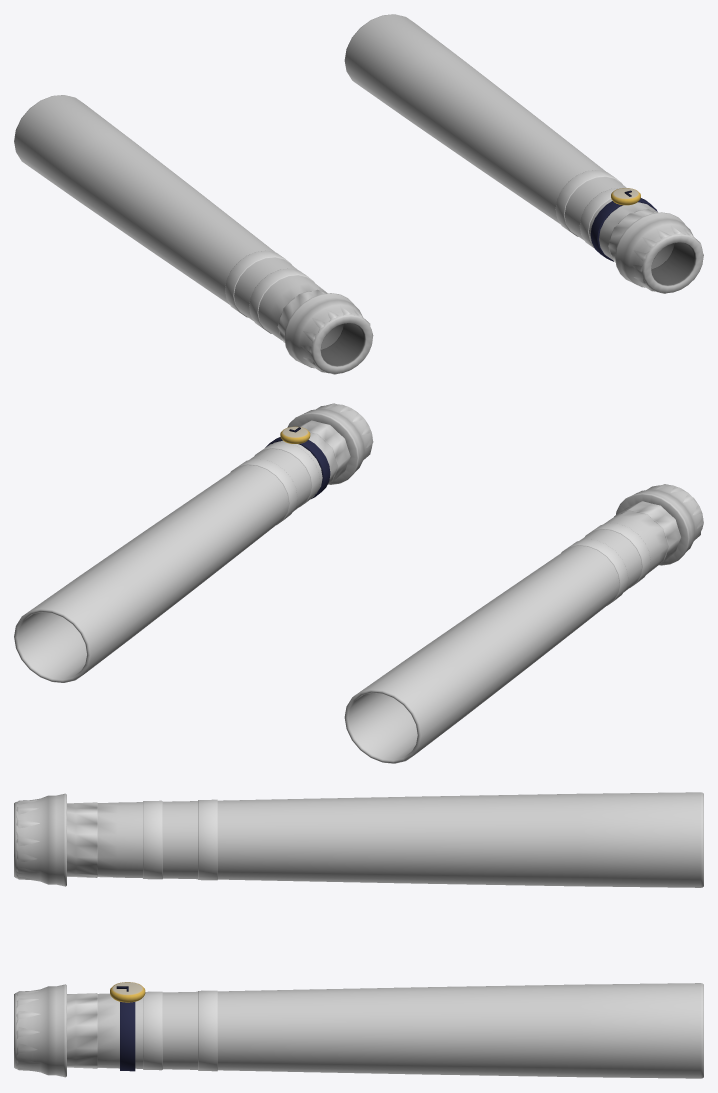
Rendered from Rookie_FPHands.fbx.
3 views of the same model, one above another, from view 1: azimuth 30°, elevation 25°; view 2: azimuth 150°, elevation 25°; view 3: azimuth 270°, elevation 25° (orthographic). The views are drawn at different scales.
Visible parts, largest first — view 1: Rookie_FPH_Right_Sleeve, Rookie_FPH_Left_Sleeve, Rookie_FPH_Right_CuffLeather, Rookie_FPH_Left_CuffLeather, Rookie_FPH_Right_Stripes, Rookie_FPH_Left_Stripes, Rookie_FPH_Left_Watch, Rookie_FPH_Left_CuffKnit, Rookie_FPH_Right_CuffKnit, Rookie_FPH_Right_Block, Rookie_FPH_Left_Block; view 2: Rookie_FPH_Right_Sleeve, Rookie_FPH_Left_Sleeve, Rookie_FPH_Right_CuffLeather, Rookie_FPH_Left_CuffLeather, Rookie_FPH_Right_Stripes, Rookie_FPH_Left_Stripes, Rookie_FPH_Right_Block, Rookie_FPH_Left_Watch, Rookie_FPH_Left_Block; view 3: Rookie_FPH_Right_Sleeve, Rookie_FPH_Left_Sleeve, Rookie_FPH_Right_CuffLeather, Rookie_FPH_Left_CuffLeather, Rookie_FPH_Right_Stripes, Rookie_FPH_Left_Stripes, Rookie_FPH_Left_Block, Rookie_FPH_Right_Block, Rookie_FPH_Left_Watch, Rookie_FPH_Right_CuffKnit, Rookie_FPH_Left_CuffKnit.
Part boxes in pixels (left/top/right/bottom): Rookie_FPH_Right_Sleeve: left=14, top=95, right=343, bottom=349; Rookie_FPH_Left_Sleeve: left=344, top=14, right=673, bottom=269; Rookie_FPH_Right_CuffLeather: left=284, top=293, right=372, bottom=373; Rookie_FPH_Left_CuffLeather: left=615, top=212, right=703, bottom=293; Rookie_FPH_Right_Stripes: left=225, top=250, right=314, bottom=333; Rookie_FPH_Left_Stripes: left=555, top=170, right=622, bottom=248; Rookie_FPH_Left_Watch: left=590, top=188, right=657, bottom=261; Rookie_FPH_Left_CuffKnit: left=631, top=225, right=703, bottom=293; Rookie_FPH_Right_CuffKnit: left=301, top=305, right=373, bottom=374; Rookie_FPH_Right_Block: left=277, top=289, right=326, bottom=342; Rookie_FPH_Left_Block: left=608, top=209, right=657, bottom=262; Rookie_FPH_Right_Sleeve: left=344, top=510, right=668, bottom=763; Rookie_FPH_Left_Sleeve: left=14, top=432, right=337, bottom=682; Rookie_FPH_Right_CuffLeather: left=616, top=485, right=703, bottom=565; Rookie_FPH_Left_CuffLeather: left=287, top=404, right=372, bottom=484; Rookie_FPH_Right_Stripes: left=561, top=523, right=650, bottom=605; Rookie_FPH_Left_Stripes: left=230, top=442, right=319, bottom=524; Rookie_FPH_Right_Block: left=614, top=501, right=680, bottom=562; Rookie_FPH_Left_Watch: left=265, top=426, right=330, bottom=498; Rookie_FPH_Left_Block: left=298, top=420, right=350, bottom=482; Rookie_FPH_Right_Sleeve: left=97, top=792, right=703, bottom=887; Rookie_FPH_Left_Sleeve: left=97, top=983, right=703, bottom=1078; Rookie_FPH_Right_CuffLeather: left=14, top=793, right=66, bottom=886; Rookie_FPH_Left_CuffLeather: left=14, top=984, right=66, bottom=1077; Rookie_FPH_Right_Stripes: left=143, top=799, right=217, bottom=880; Rookie_FPH_Left_Stripes: left=143, top=990, right=217, bottom=1071; Rookie_FPH_Left_Block: left=67, top=993, right=97, bottom=1068; Rookie_FPH_Right_Block: left=67, top=802, right=97, bottom=877; Rookie_FPH_Left_Watch: left=110, top=982, right=145, bottom=1071; Rookie_FPH_Right_CuffKnit: left=16, top=800, right=39, bottom=880; Rookie_FPH_Left_CuffKnit: left=16, top=991, right=40, bottom=1071.
Bounding box in the file's own units: 0.4439 × 0.0764 × 0.5502.
